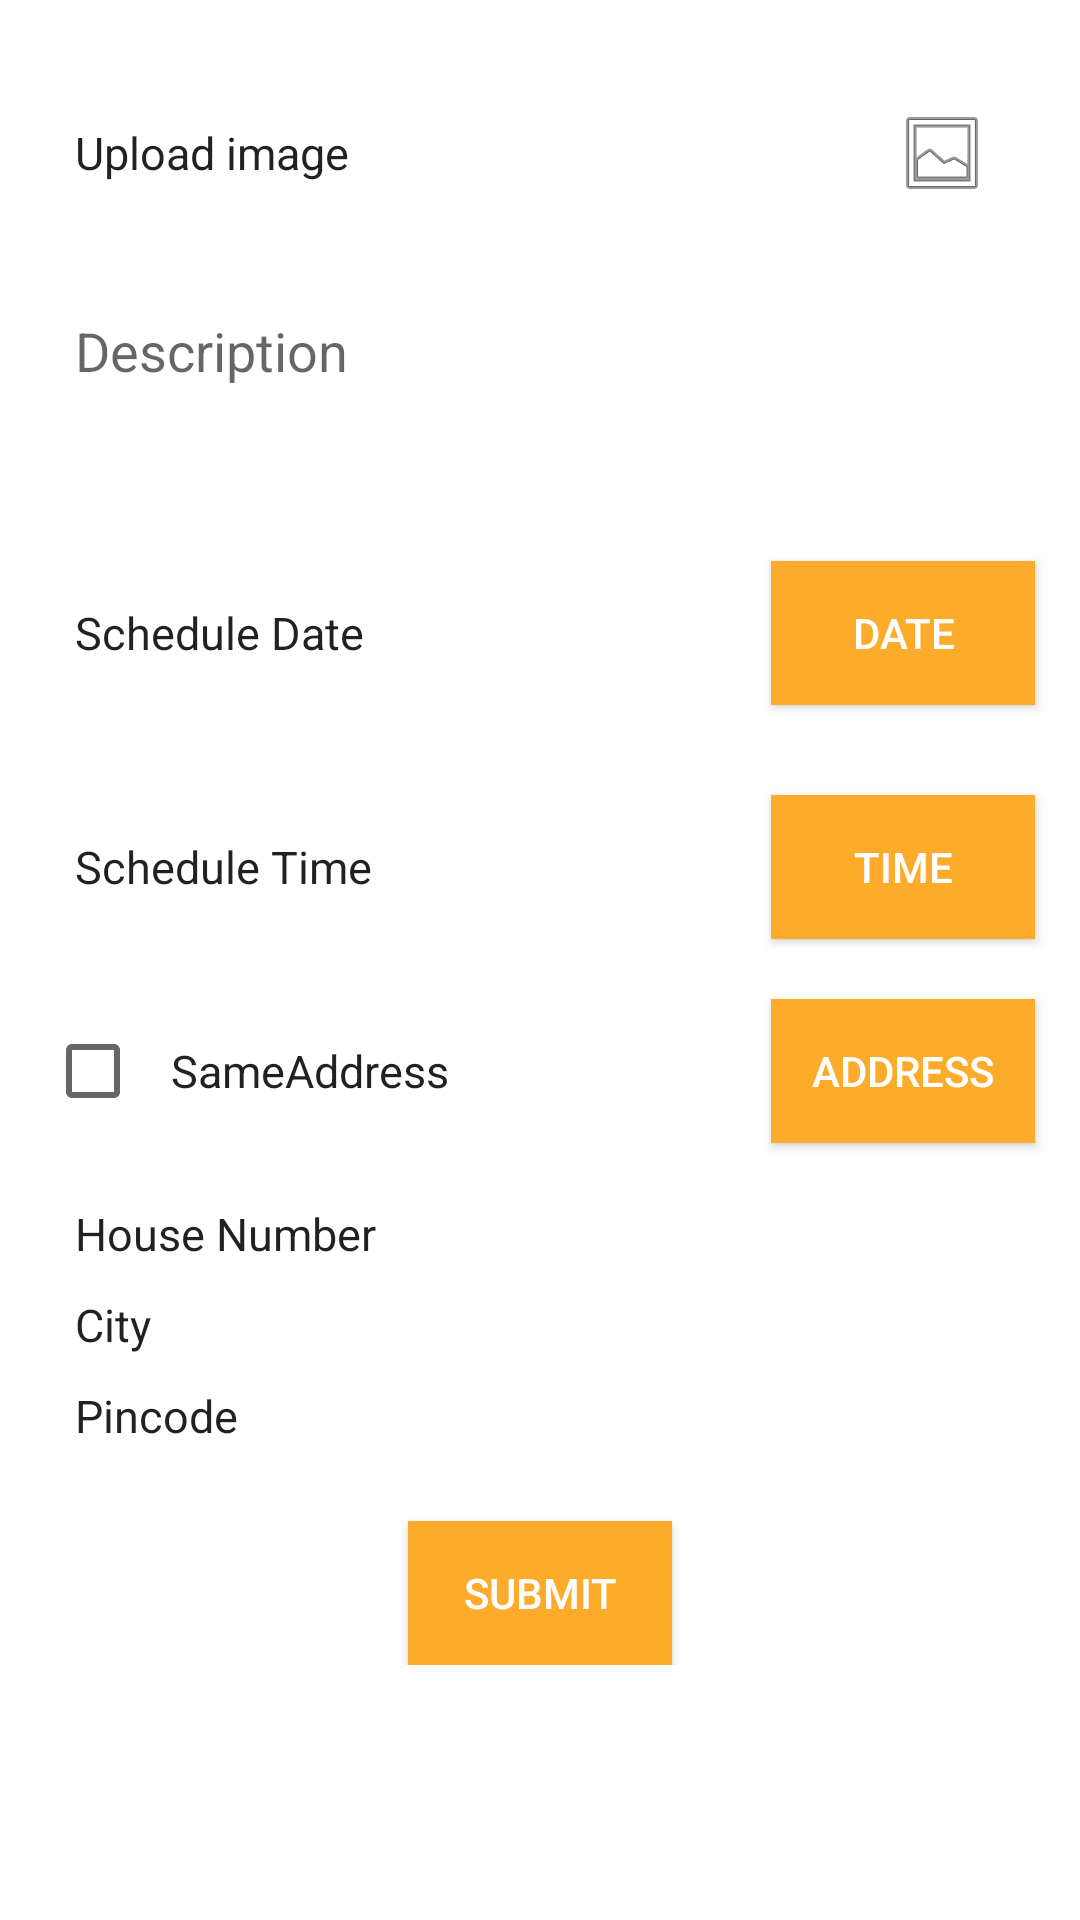

Named icons in this screenshot (1080×1920) and their centers, point (x, y):
gallery: point (942, 153)
